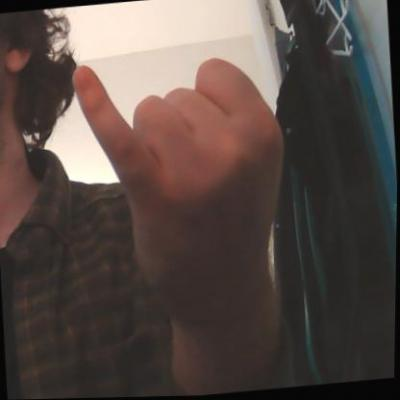hand: (68, 51, 294, 335)
